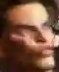kevin: (6, 4, 52, 65)
